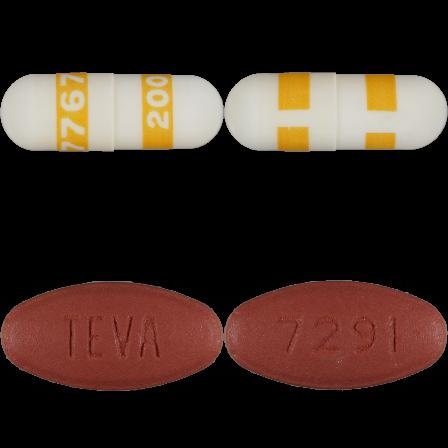21695-023: (0, 0, 224, 224)
